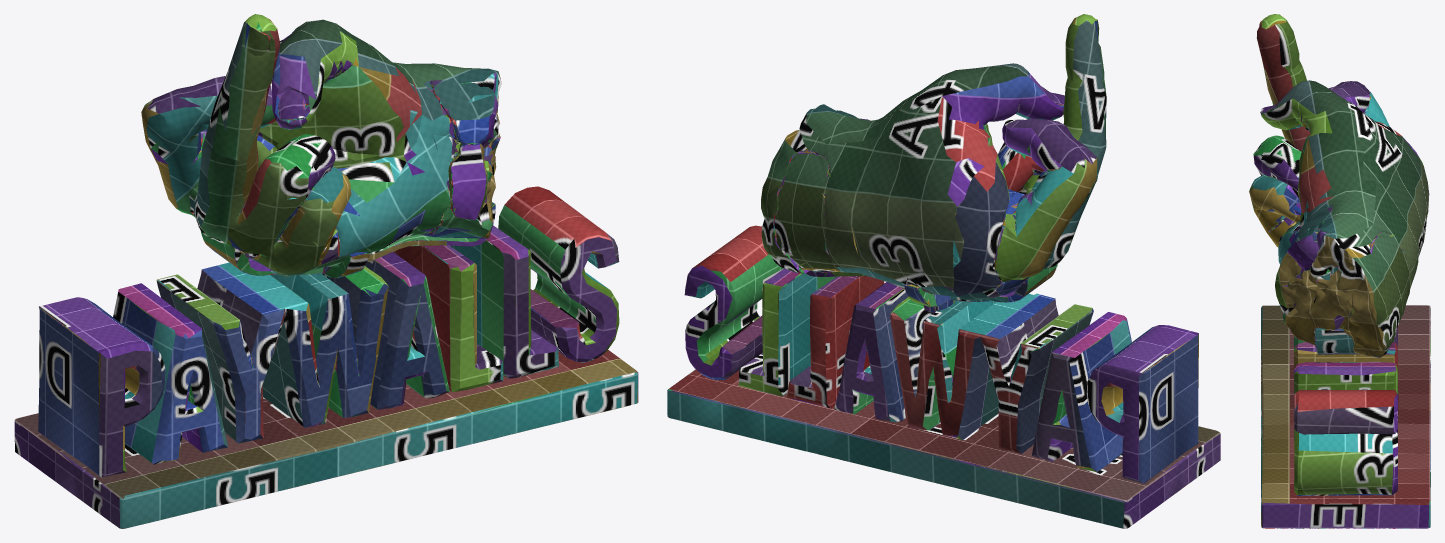
3 renders of one model, left to right at view 1: azimuth 30°, elevation 25°; view 2: azimuth 150°, elevation 25°; view 3: azimuth 270°, elevation 25°, orthographic. The views are drawn at different scales.
Parts seen in each view (by area): view 1: mesh_0_1792679161749_1.001; view 2: mesh_0_1792679161749_1.001; view 3: mesh_0_1792679161749_1.001.
Boxes of the visible parts, box(x1,y1,x2,y2) form: mesh_0_1792679161749_1.001: box(14, 14, 638, 528); mesh_0_1792679161749_1.001: box(667, 14, 1220, 528); mesh_0_1792679161749_1.001: box(1249, 14, 1430, 528).
Bounding box in the file's own units: 164 × 142 × 62.92.
1 material, 1 textured.
